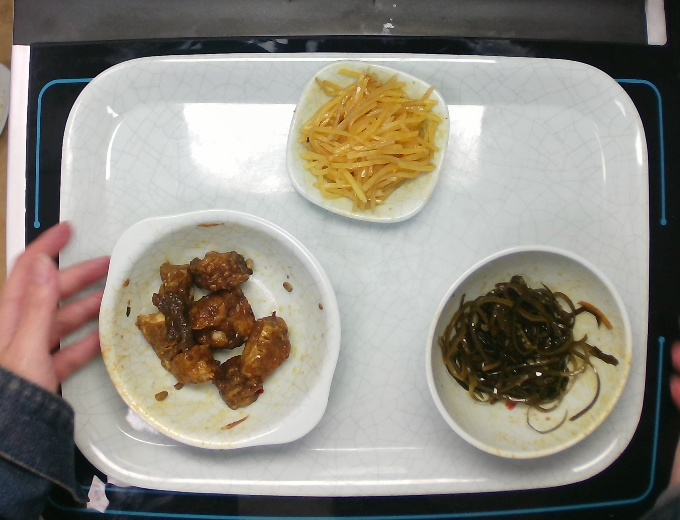JYsf-Fan_Wan: (422, 242, 634, 461)
JYsf-Shuang_Er_Wan: (96, 206, 343, 453)
JYsf-Si_Fang_Die: (283, 58, 452, 225)
